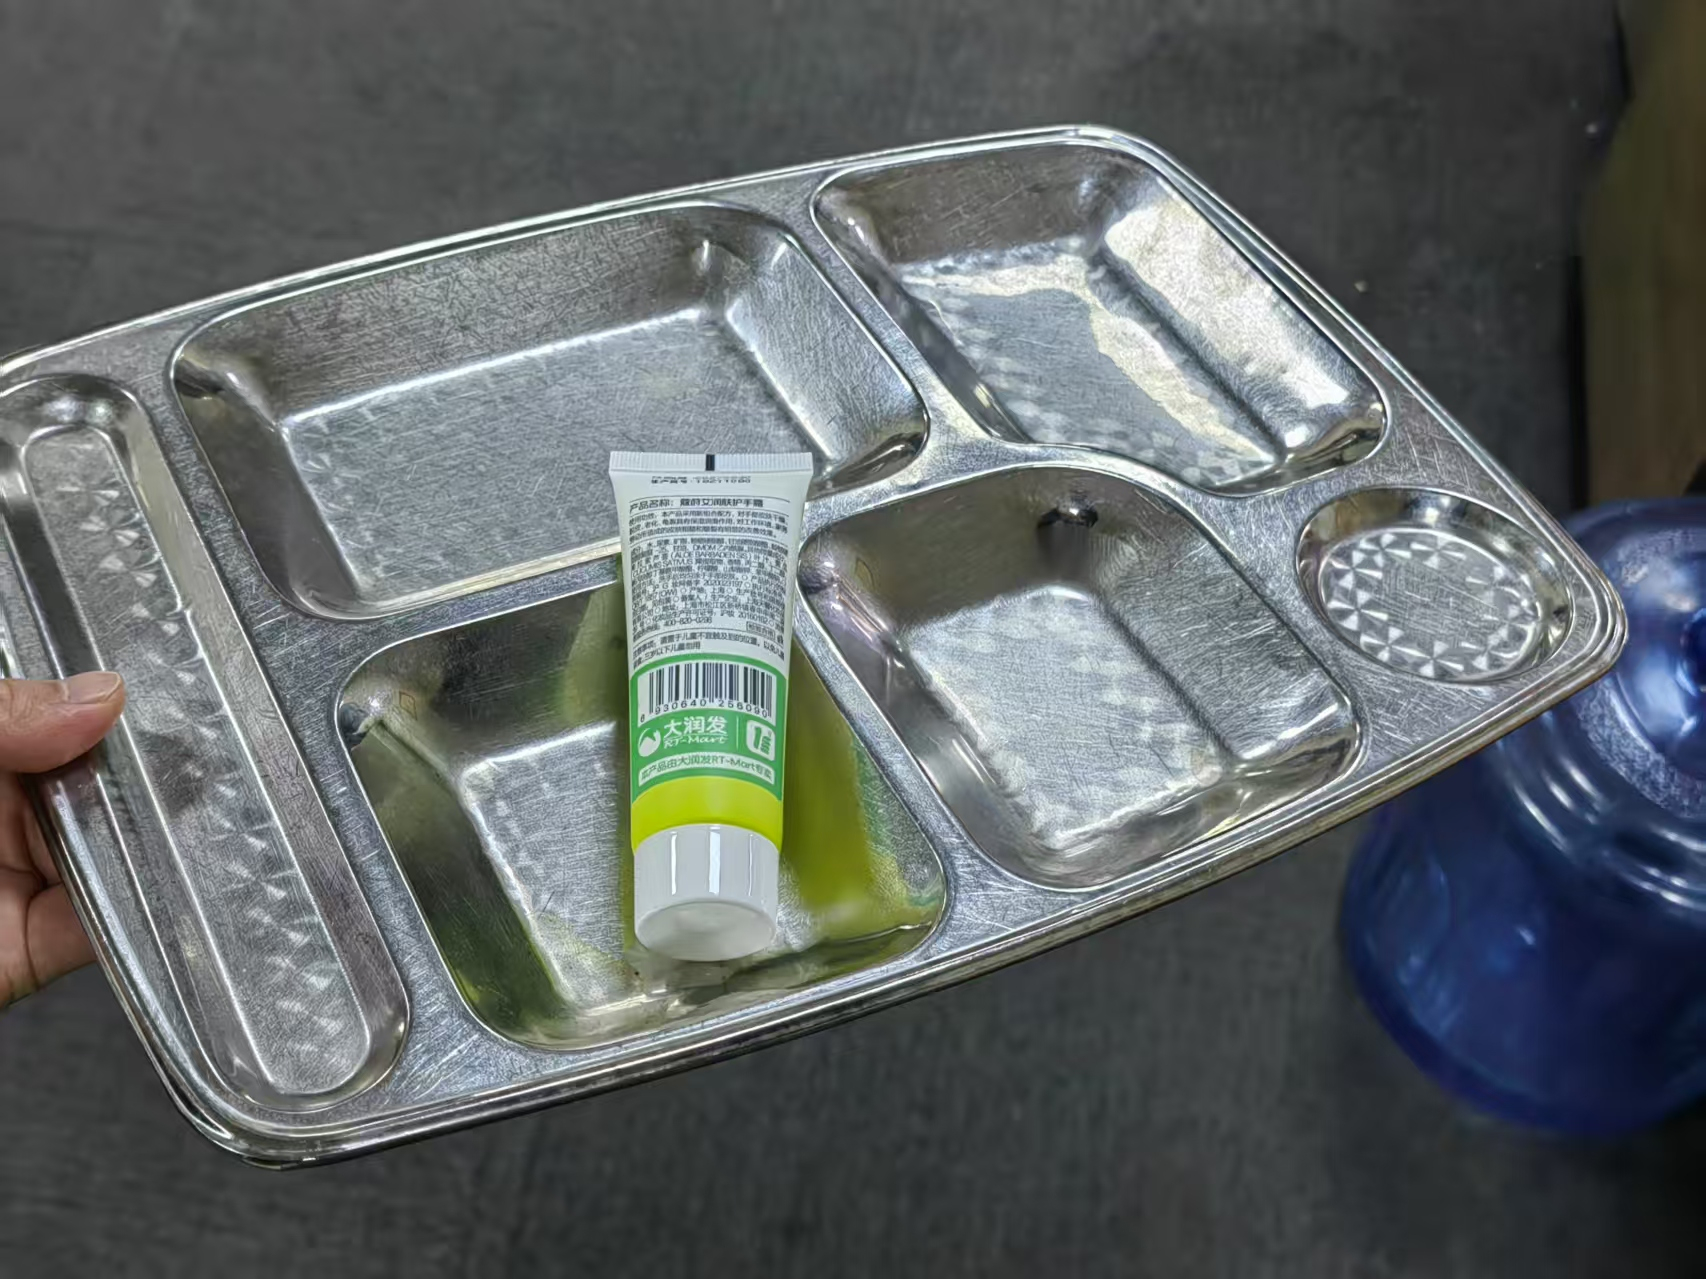mild: (600, 449, 811, 968)
plate: (3, 127, 1636, 1168)
